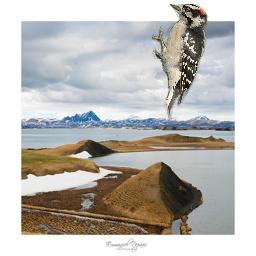Woodpecker: (152, 4, 209, 120)
